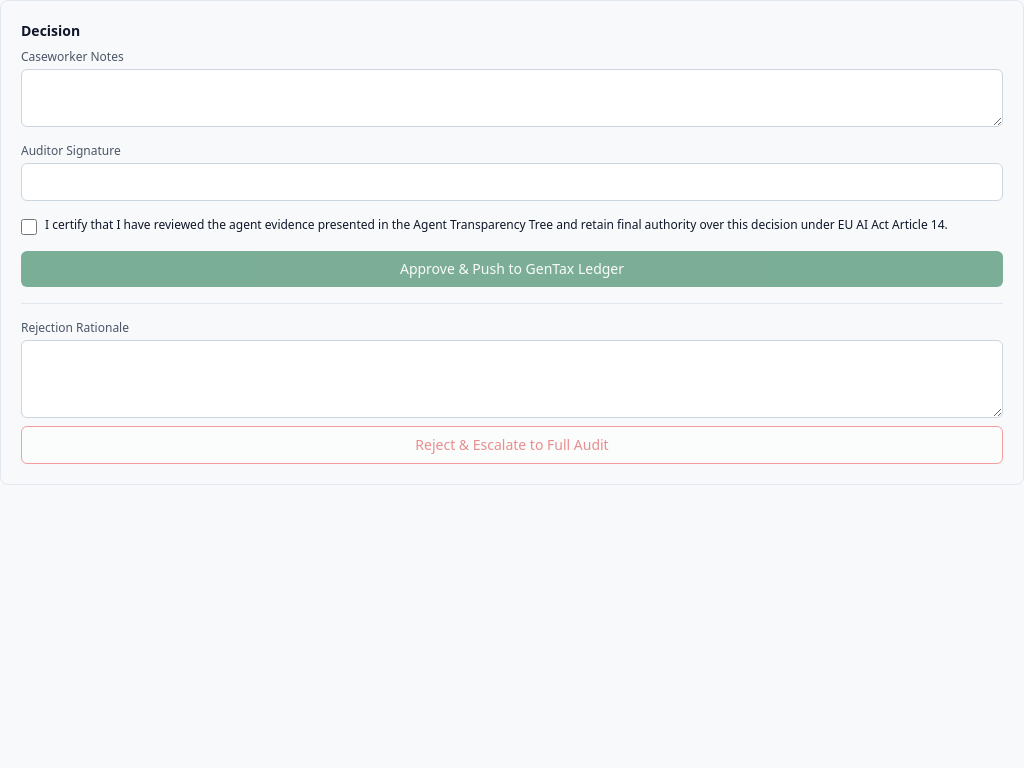
Test: DecisionActions controls, labels, and Article 14 text › renders the GenTax receipt confirmation after a successful approve submission
The width and height of the screenshot is (1024, 768).
Note: Approve is gated on a signature AND the compliance checkbox (canApprove).
In the field labelled "Auditor Signature": x=512, y=182 [21,163,1003,201], type "Jane Auditor"
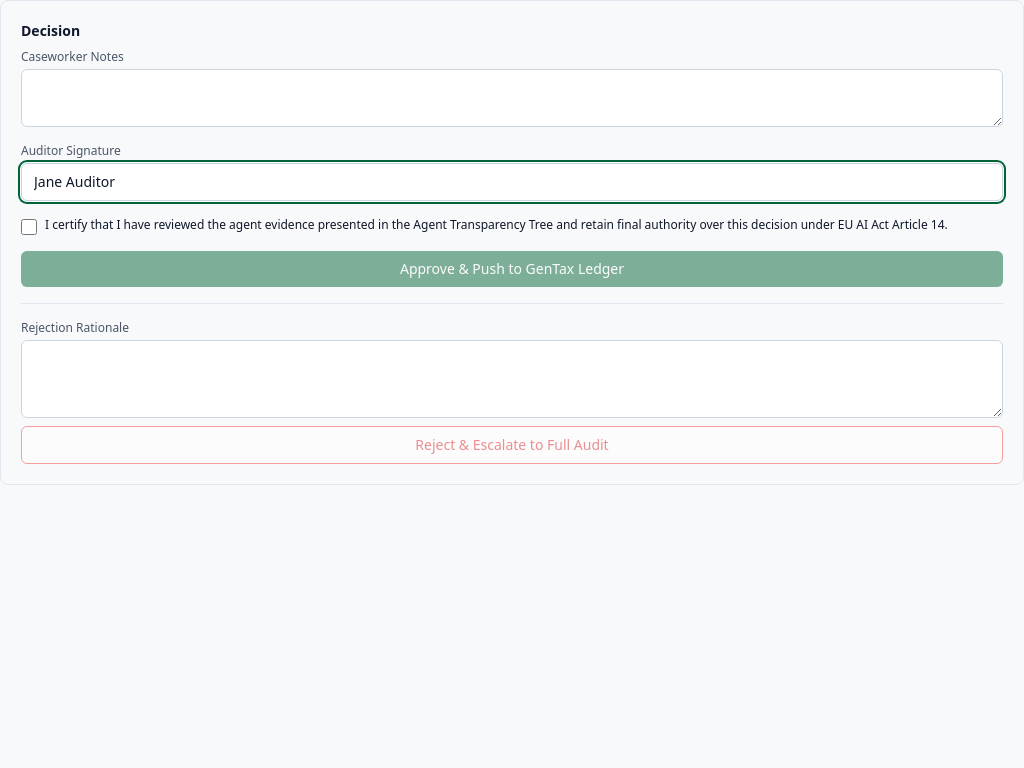
Click the checkbox: x=29, y=227 [21,219,37,235]
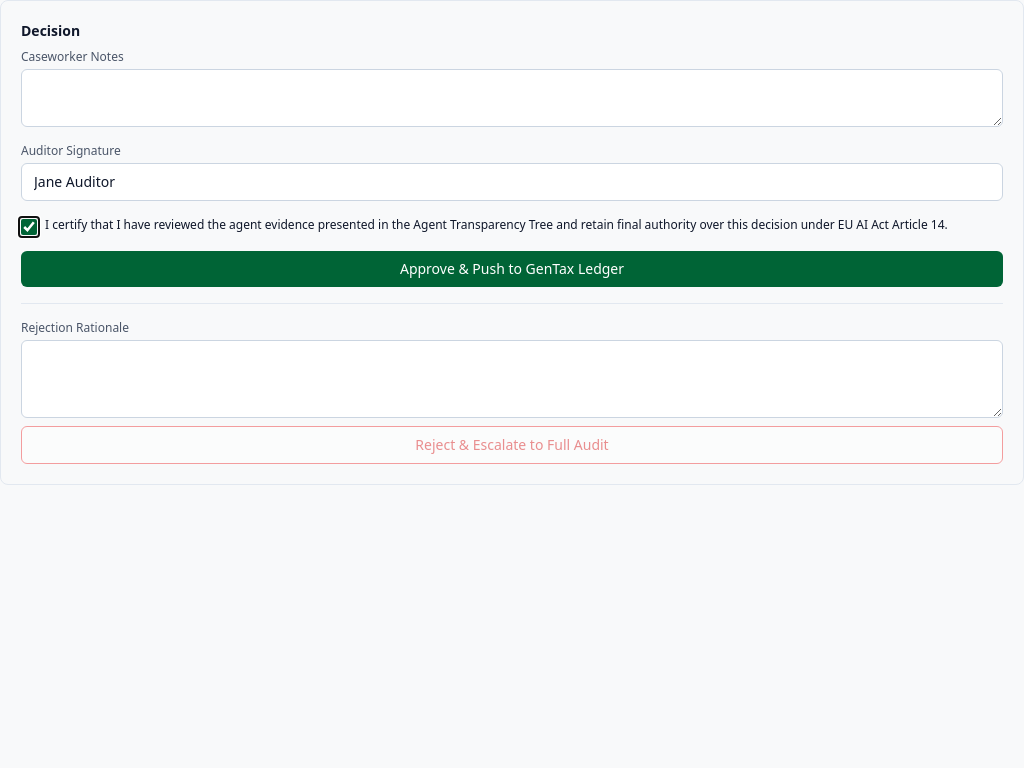
Click the button "Approve & Push to GenTax Ledger": x=512, y=269 [21,251,1003,287]
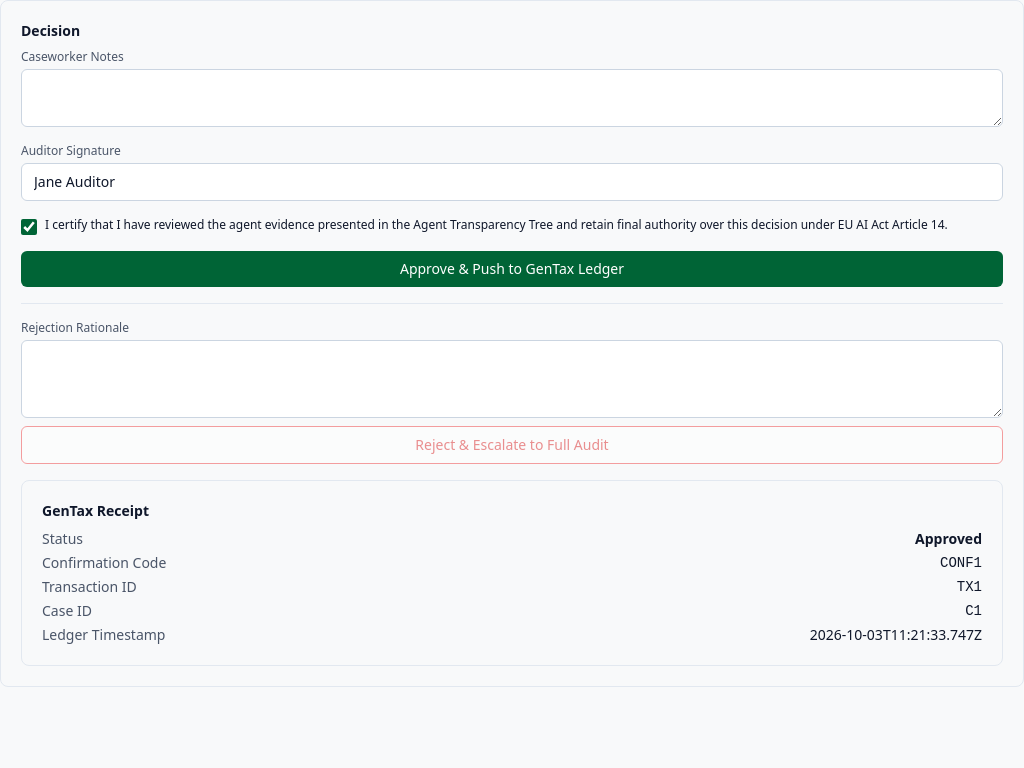
Expected: the text "CONF1" is shown, [940,553,982,573]
Expected: the text "TX1" is shown, [957,577,982,597]
